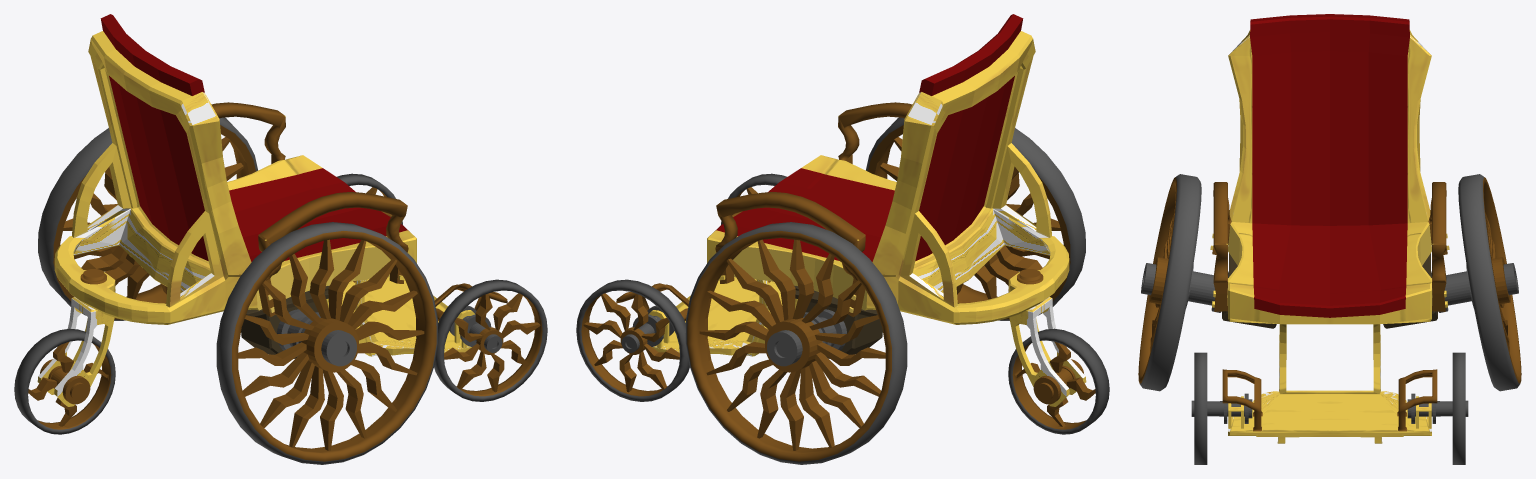
Rendered from wheelchair.glb.
3 renders of one model, left to right at view 1: azimuth 30°, elevation 25°; view 2: azimuth 150°, elevation 25°; view 3: azimuth 270°, elevation 25°, orthographic. The views are drawn at different scales.
Parts seen in each view (by area): view 1: 001 Chair_2, 002 main wheels_3, 005 front wheels_4, 008 stabiliser wheel_5, Cube_9, 003 main wheel holders_8; view 2: 001 Chair_2, 002 main wheels_3, 005 front wheels_4, 008 stabiliser wheel_5, Cube_9, 003 main wheel holders_8; view 3: 001 Chair_2, 002 main wheels_3, 005 front wheels_4, 003 main wheel holders_8, 004 front forks_6.
Part boxes in pixels (x1=…): 001 Chair_2: x1=54, y1=14, x2=507, y2=356; 002 main wheels_3: x1=38, y1=117, x2=438, y2=464; 005 front wheels_4: x1=337, y1=173, x2=547, y2=401; 008 stabiliser wheel_5: x1=14, y1=328, x2=115, y2=434; Cube_9: x1=37, y1=297, x2=114, y2=406; 003 main wheel holders_8: x1=241, y1=285, x2=329, y2=358; 001 Chair_2: x1=616, y1=14, x2=1069, y2=356; 002 main wheels_3: x1=685, y1=117, x2=1085, y2=464; 005 front wheels_4: x1=576, y1=173, x2=786, y2=401; 008 stabiliser wheel_5: x1=1008, y1=328, x2=1109, y2=434; Cube_9: x1=1009, y1=297, x2=1086, y2=406; 003 main wheel holders_8: x1=794, y1=285, x2=882, y2=358; 001 Chair_2: x1=1210, y1=14, x2=1449, y2=443; 002 main wheels_3: x1=1138, y1=174, x2=1521, y2=391; 005 front wheels_4: x1=1191, y1=352, x2=1468, y2=464; 003 main wheel holders_8: x1=1222, y1=253, x2=1437, y2=328; 004 front forks_6: x1=1228, y1=396, x2=1431, y2=428.
Size of the model in its own units: 4.29 by 3.28 by 3.52.
8 materials, 2 textured.
